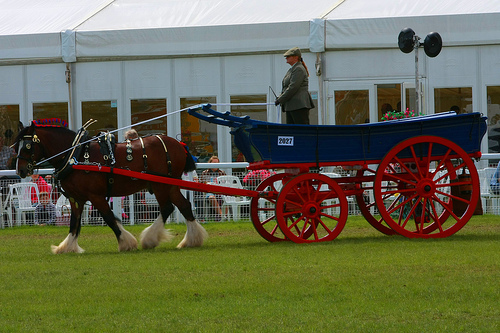horse: (6, 119, 209, 256)
